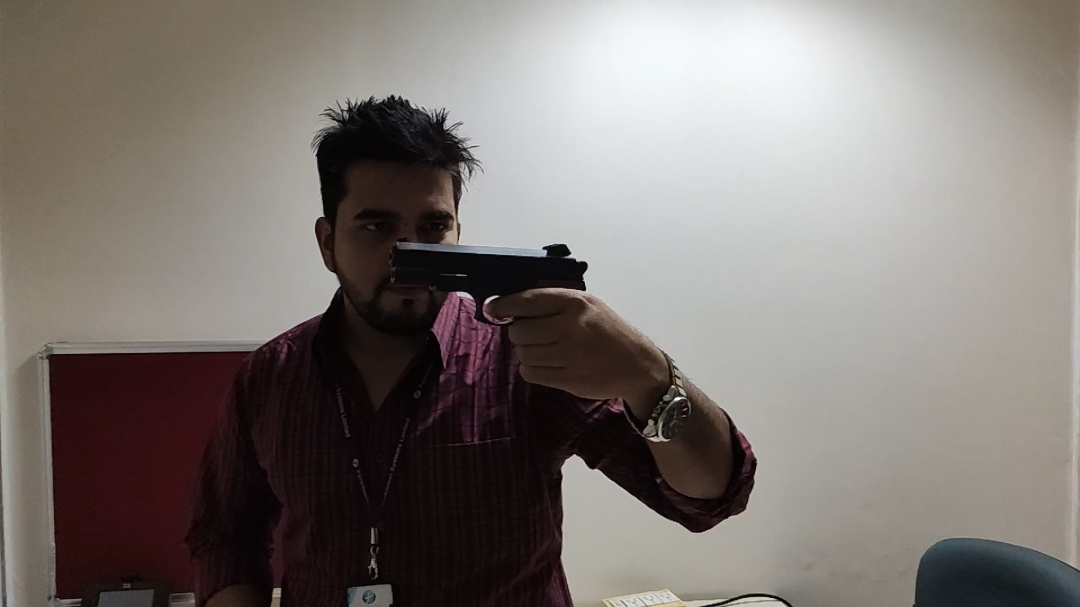gun: (386, 235, 606, 385)
